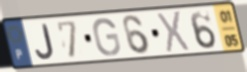6: (121, 13, 151, 56), (189, 10, 218, 51)
7: (56, 20, 79, 60)
G: (91, 16, 122, 58)
J: (34, 23, 56, 61)
X: (155, 9, 191, 54)
